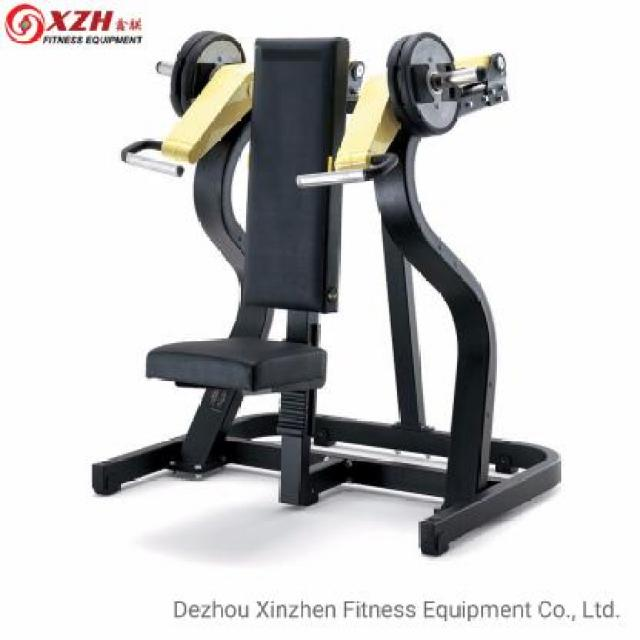shoulder press machine: (86, 20, 563, 563)
